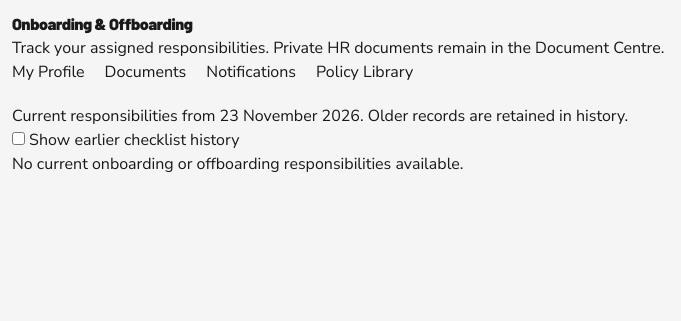
Test case: earlier checklists are hidden by default and available as read-only history
The width and height of the screenshot is (681, 321).
Expected: the text "Historical colleague" is not shown
Expected: the text "Old 30-day check-in" is not shown
Click the checkbox labelled "Show earlier checklist history": click(18, 138) [12,132,25,145]
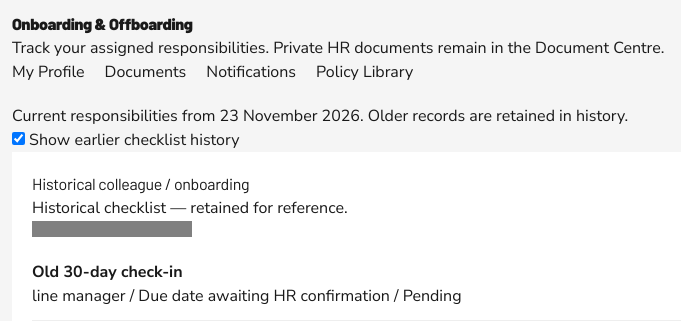
Expected: the text "Old 30-day check-in" is shown, [32,261,182,283]
Expected: the text "Historical checklist" is shown, [32,197,348,219]
